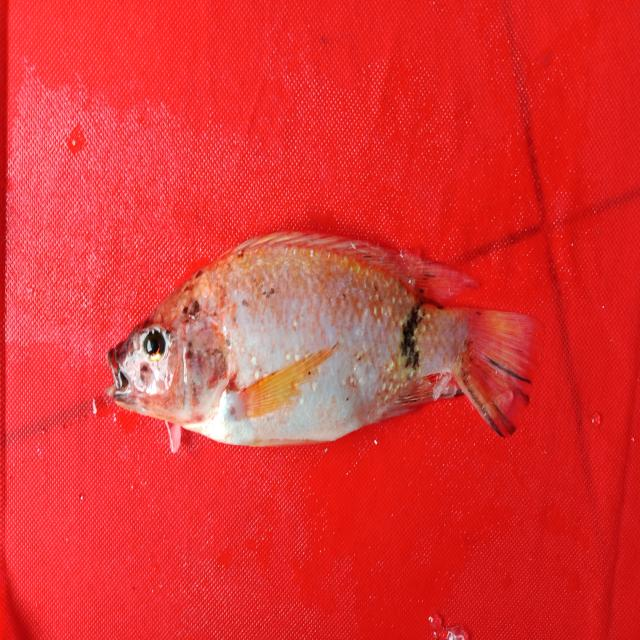ikan: (91, 212, 573, 466)
